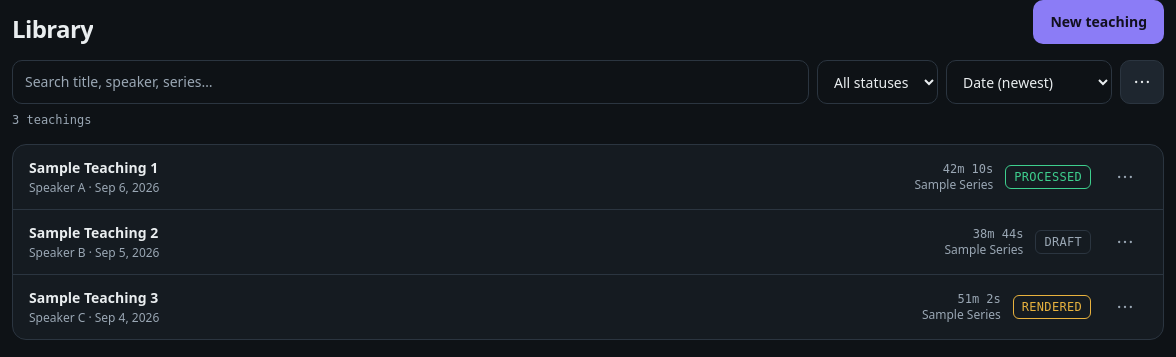
it: Library toolbar › keeps search, status, and sort visible while moving export and clear into the overflow
Expected: the 1st dropdown named "Filter by status" is shown, left=817, top=60, right=938, bottom=104
Expected: the 2nd dropdown named "Sort teachings" is shown, left=946, top=60, right=1112, bottom=104
In the search field named "Search teachings": (410, 82) left=12, top=60, right=809, bottom=104, type "Sample Teaching 1"
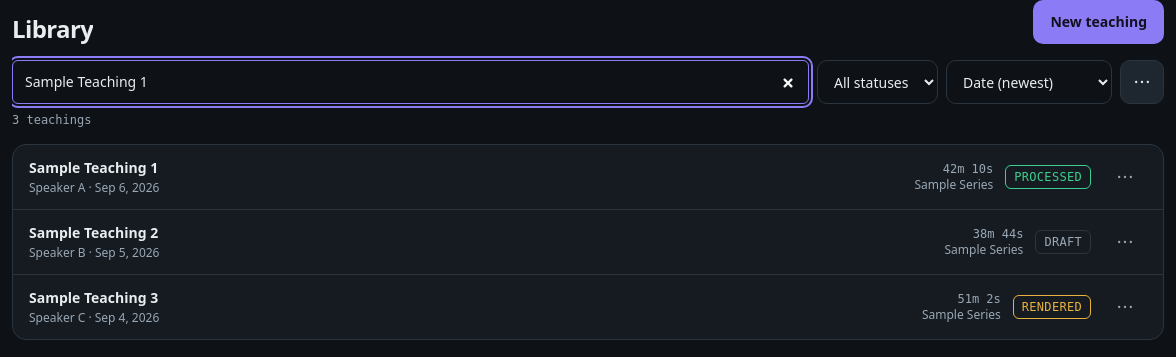
Select "Processed" in the 1st dropdown named "Filter by status": (878, 82) left=817, top=60, right=938, bottom=104
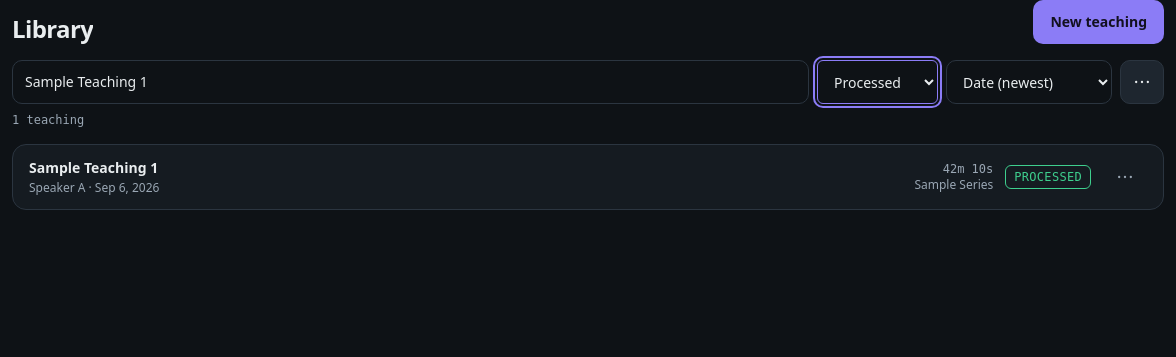
Click the button with test id "library-toolbar-menu": click(1142, 82) left=1120, top=60, right=1164, bottom=104
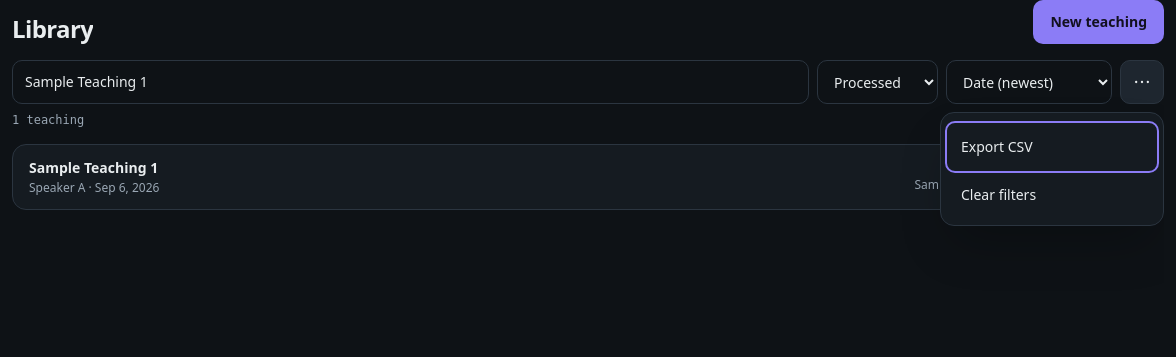
Expected: the menu item "Export CSV" is shown, left=949, top=125, right=1155, bottom=169
Click the menu item "Clear filters": click(1052, 195) left=949, top=173, right=1155, bottom=217
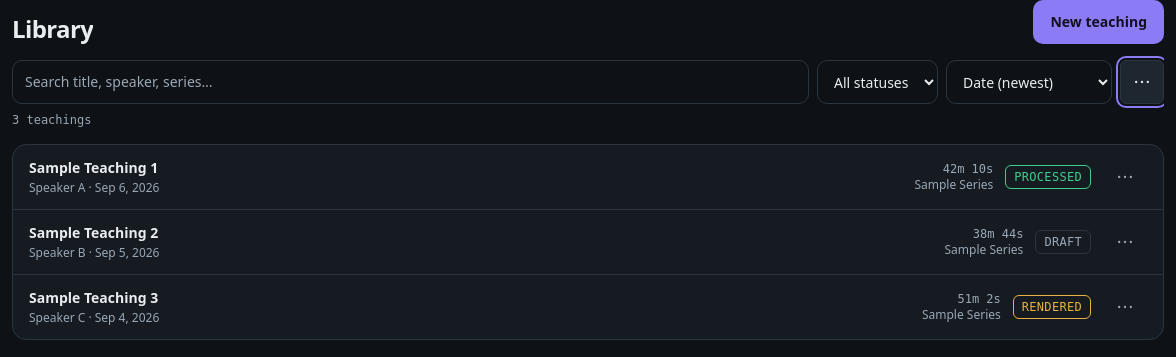
Expected: the search field named "Search teachings" is empty, left=12, top=60, right=809, bottom=104
